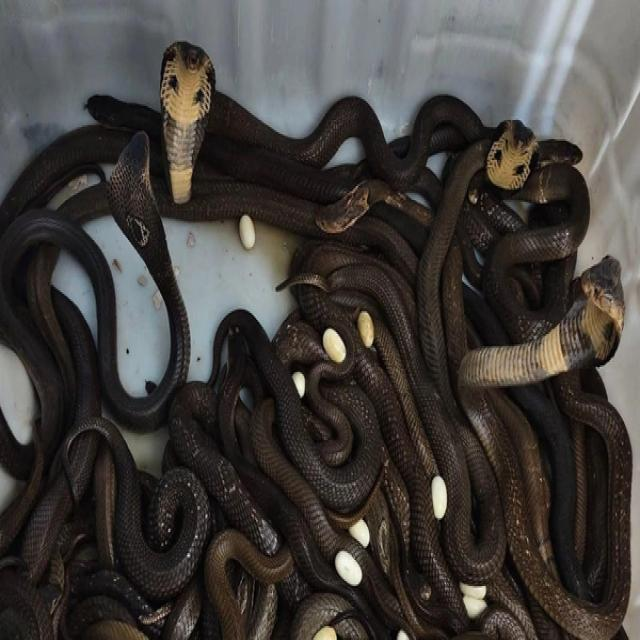Venomous: (96, 124, 178, 266), (152, 30, 235, 153), (567, 247, 634, 385), (480, 101, 542, 202)
